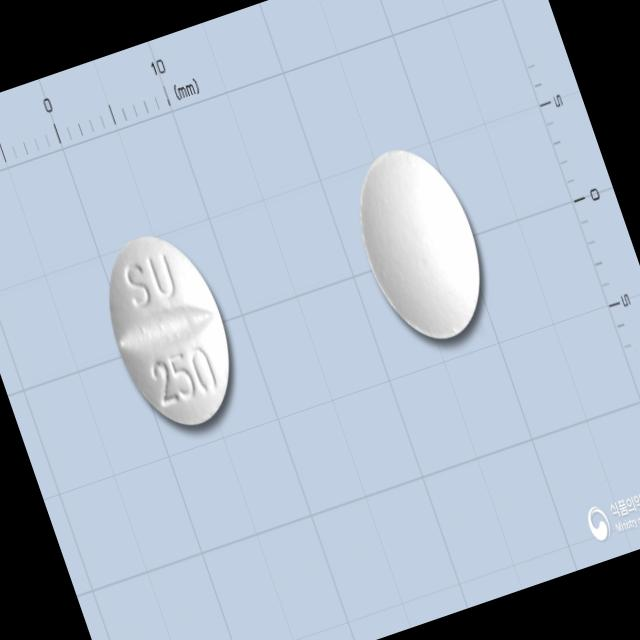Ciptec: (82, 214, 258, 446)
